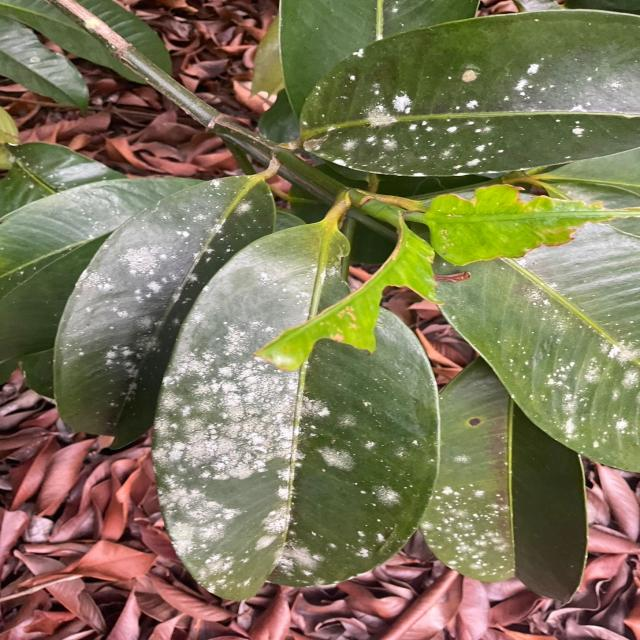Leaf Spot: (180, 321, 354, 508), (175, 514, 401, 590), (548, 294, 640, 452), (334, 119, 520, 170), (464, 49, 598, 117), (426, 473, 518, 571), (83, 321, 165, 425), (354, 57, 451, 144), (98, 244, 197, 318), (158, 187, 258, 244)
